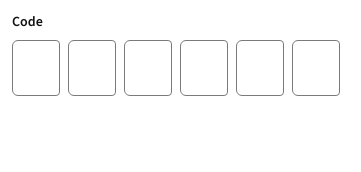
OTPInput › advances as digits are typed and completes on the sixth
Click the field named "Digit 1 of 6" at (36, 68), box top-left (12, 40), bottom-right (60, 96)
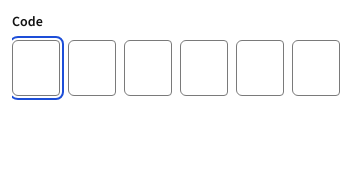
Type keys "123456"
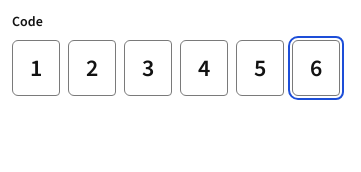
Now the field named "Digit 6 of 6" holds "6", box top-left (292, 40), bottom-right (340, 96)
